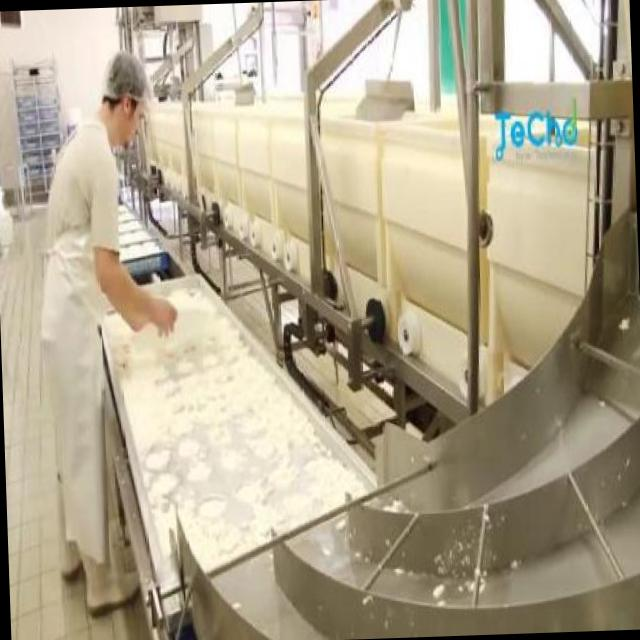hairnet: (106, 51, 152, 102)
